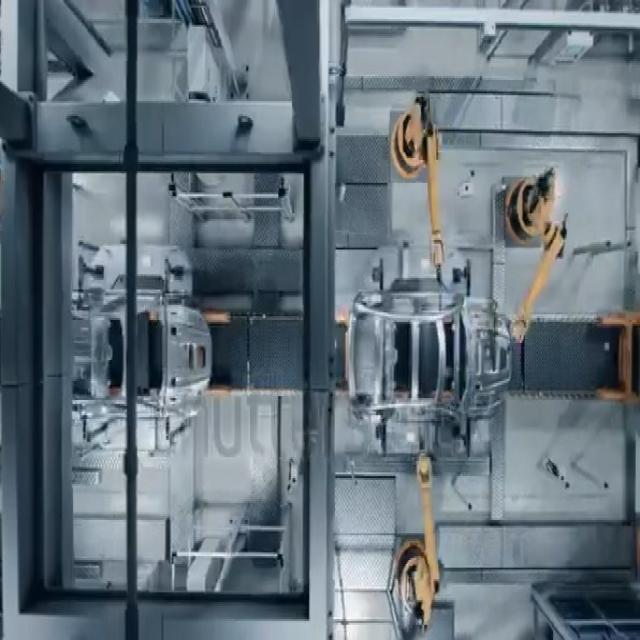auto: (343, 274, 521, 438), (70, 269, 214, 442)
robot: (382, 423, 451, 640), (499, 156, 567, 350), (390, 95, 450, 288)
